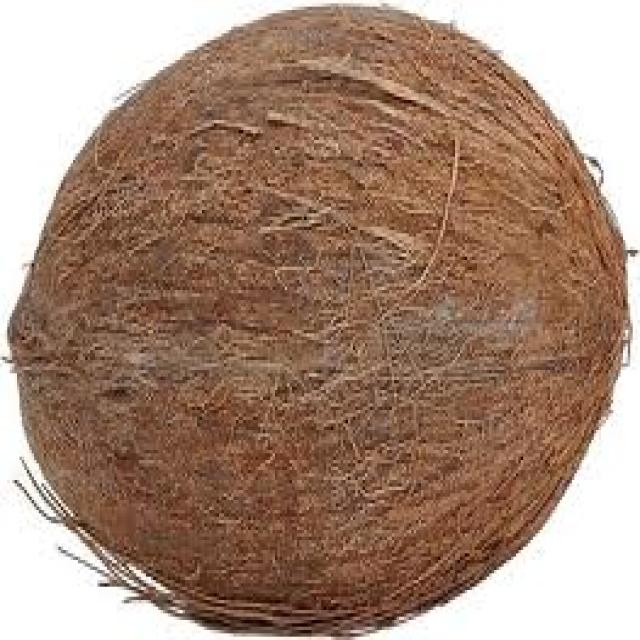coconut: (2, 3, 626, 630)
